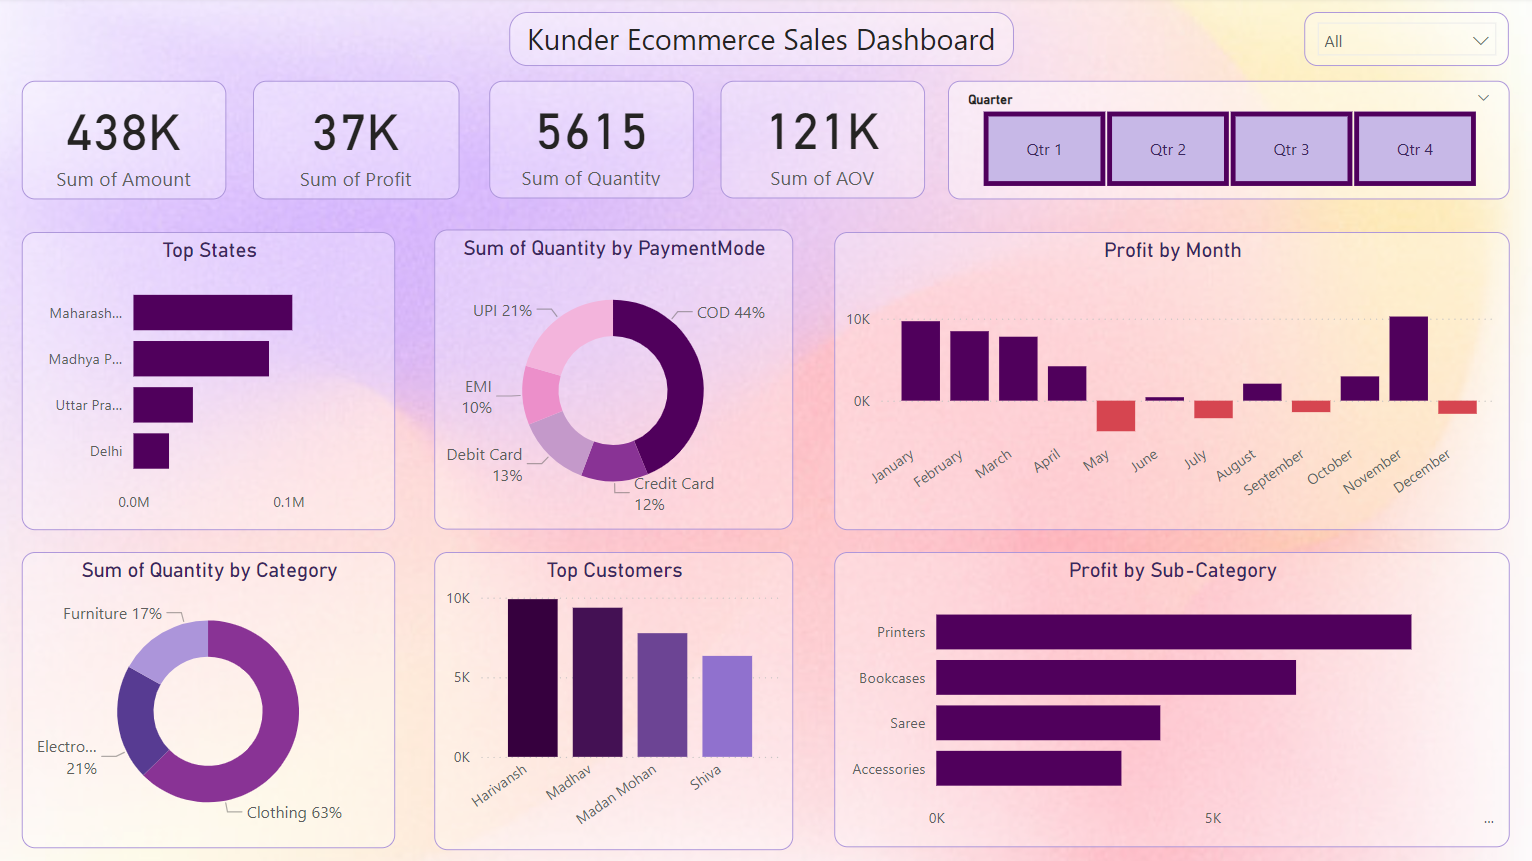

The page's visual inventory and layout, read from the dashboard file:
{"tool":"powerbi","page":{"name":"Page 1","canvas":[1280,720],"ordinal":0},"visuals":[{"type":"textbox","box":[431.9,12.5,418.1,44.4],"z":0},{"type":"columnChart","title":"Profit by Month","fields":{"Y":["Sum(Details.Profit)"],"Category":["Orders.Order Date.Variation.Date Hierarchy.Month"]},"box":[701.4,194.4,559.7,247.2],"z":1000},{"type":"barChart","title":"Profit by Sub-Category","fields":{"Category":["Details.Sub-Category"],"Y":["Sum(Details.Profit)"]},"box":[701.4,459.7,559.7,244.4],"z":2000},{"type":"donutChart","fields":{"Category":["Details.Category"],"Y":["Sum(Details.Quantity)"]},"box":[27.8,459.7,309.7,245.8],"z":3000},{"type":"donutChart","fields":{"Y":["Sum(Details.Quantity)"],"Series":["Details.PaymentMode"]},"box":[369.4,193.1,297.2,248.6],"z":4000},{"type":"card","fields":{"Values":["Sum(Details.Amount)"]},"box":[27.8,69.2,169.4,98.6],"z":5000},{"type":"card","fields":{"Values":["Sum(Details.Quantity)"]},"box":[415.3,69.2,169.4,97.2],"z":6000},{"type":"card","fields":{"Values":["Sum(Details.Profit)"]},"box":[219.4,69.2,170.8,98.6],"z":7000},{"type":"card","fields":{"Values":["Sum(Details.AOV)"]},"box":[606.9,69.2,169.4,97.2],"z":8000},{"type":"barChart","title":"Top States","fields":{"Category":["Orders.State"],"Y":["Sum(Details.Amount)"]},"box":[27.8,194.4,309.7,247.2],"z":9000},{"type":"columnChart","title":"Top Customers","fields":{"Category":["Orders.CustomerName"],"Y":["Sum(Details.Amount)"]},"box":[369.4,459.7,297.2,247.2],"z":10000},{"type":"slicer","fields":{"Values":["Orders.Order Date.Variation.Date Hierarchy.Quarter"]},"box":[795.8,69.4,465.3,98.6],"z":11000},{"type":"slicer","fields":{"Values":["Orders.State"]},"box":[1090.9,12.3,169.7,44.7],"z":12000}]}

Visuals, with their boxes in screenshot pixels (x1, y1, x2, y2), scaled from the page's 1280x720 canvas onto the 1532x861 screenshot:
textbox: region(517, 15, 1017, 68)
"Profit by Month" columnChart: region(839, 232, 1509, 528)
"Profit by Sub-Category" barChart: region(839, 550, 1509, 842)
donutChart - Details.Category x Sum(Details.Quantity): region(33, 550, 404, 844)
donutChart - Sum(Details.Quantity) x Details.PaymentMode: region(442, 231, 798, 528)
card - Sum(Details.Amount): region(33, 83, 236, 201)
card - Sum(Details.Quantity): region(497, 83, 700, 199)
card - Sum(Details.Profit): region(263, 83, 467, 201)
card - Sum(Details.AOV): region(726, 83, 929, 199)
"Top States" barChart: region(33, 232, 404, 528)
"Top Customers" columnChart: region(442, 550, 798, 845)
slicer - Orders.Order Date.Variation.Date Hierarchy.Quarter: region(952, 83, 1509, 201)
slicer - Orders.State: region(1306, 15, 1509, 68)
